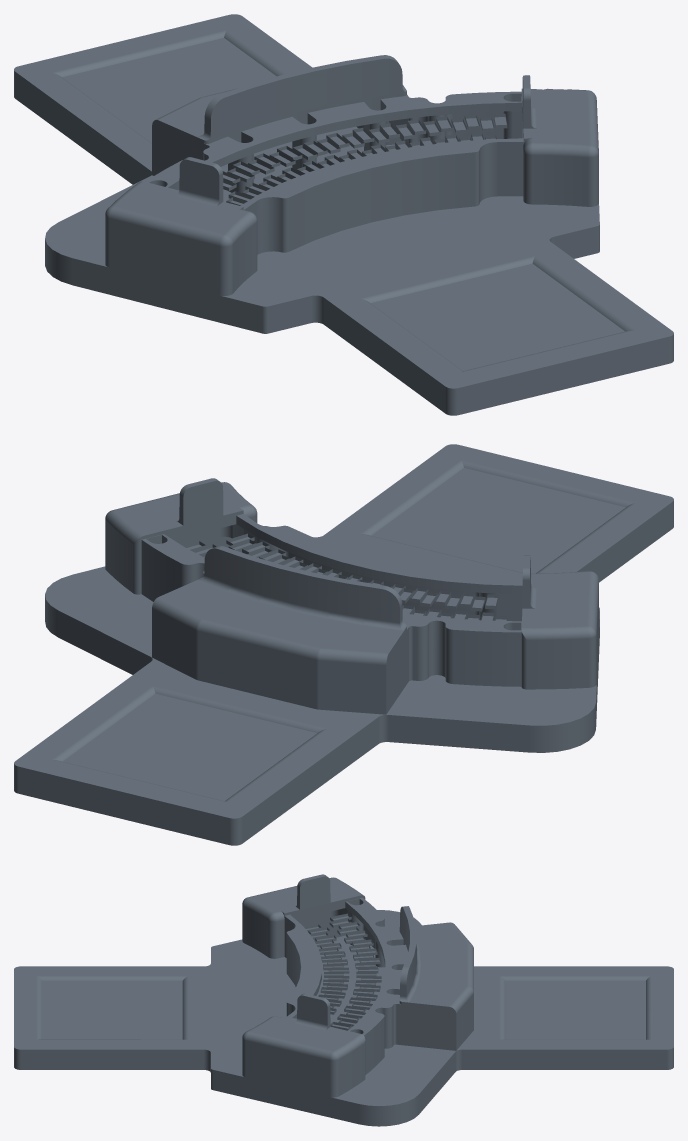
Rendered from Segment_Assembly_Fixture.obj.
3 renders of one model, top to bottom at view 1: azimuth 30°, elevation 25°; view 2: azimuth 150°, elevation 25°; view 3: azimuth 270°, elevation 25°, orthographic. The views are drawn at different scales.
Parts seen in each view (by area): view 1: Vorrichtung_V_1; view 2: Vorrichtung_V_1; view 3: Vorrichtung_V_1.
Boxes of the visible parts, x1=… form: Vorrichtung_V_1: x1=14, y1=14, x2=673, y2=415; Vorrichtung_V_1: x1=14, y1=444, x2=673, y2=845; Vorrichtung_V_1: x1=14, y1=874, x2=673, y2=1126.
Size of the model in its own units: 0.3303 by 0.0715 by 0.4693.
